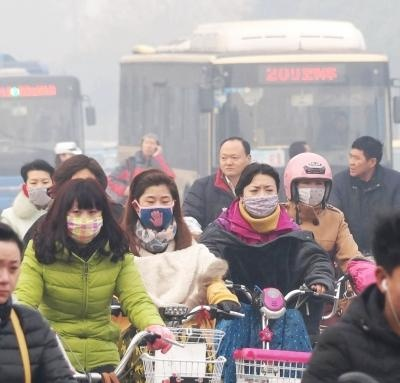Mask: (60, 202, 100, 242)
